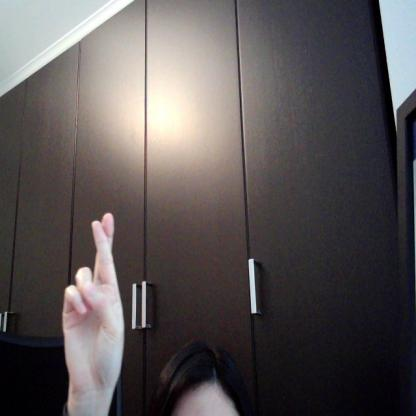right: (57, 207, 135, 401)
